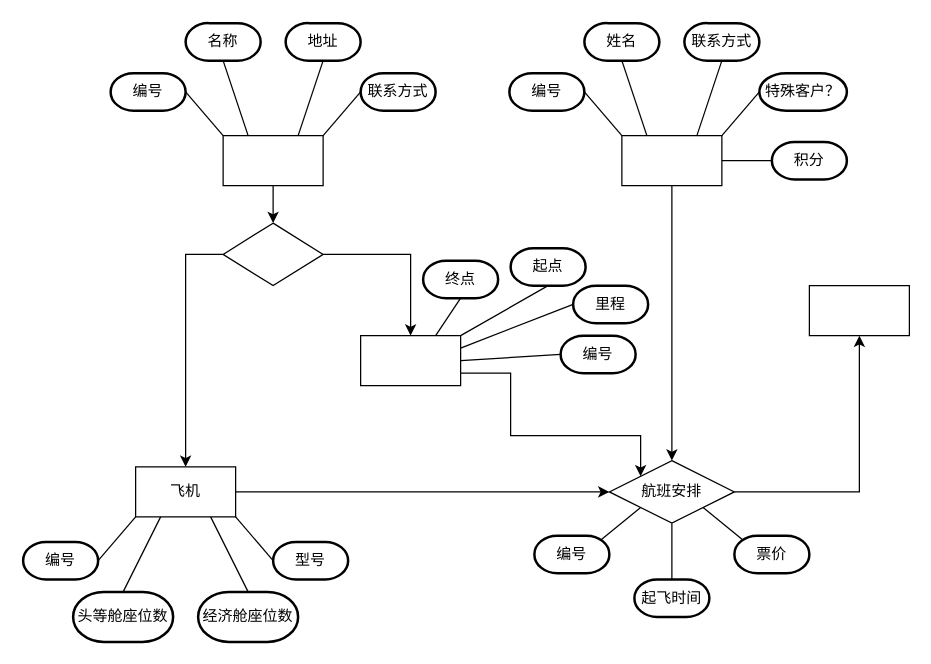
Image size: 931x664. Some labels were removed from this diagram. Each missing label, with the centre of its shape:
"客户" belongs at [671,160].
"提供" belongs at [272,254].
"机场" belongs at [858,310].
"航空公司" belongs at [272,160].
"航线" belongs at [410,360].
